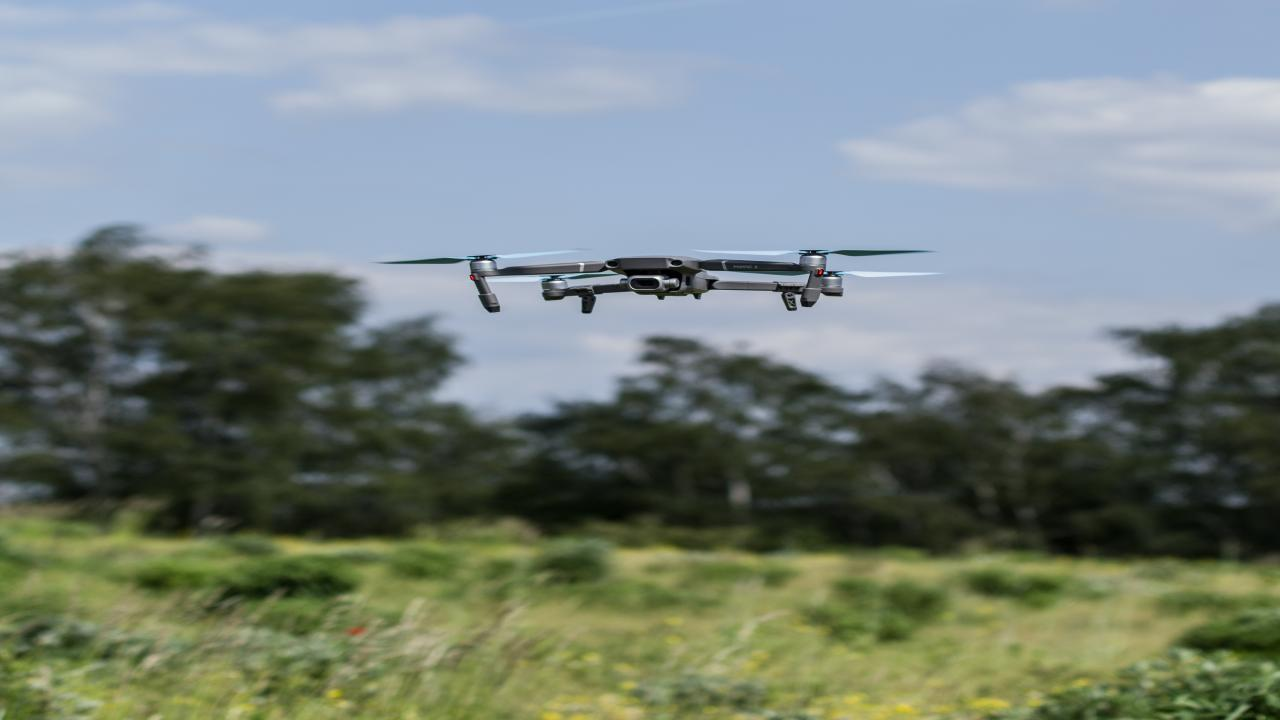Drone: (348, 235, 966, 325)
